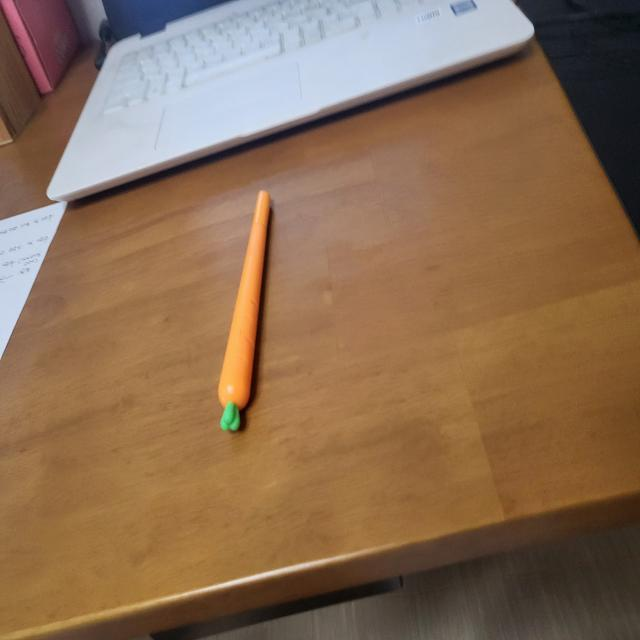carrot: (216, 183, 276, 409)
